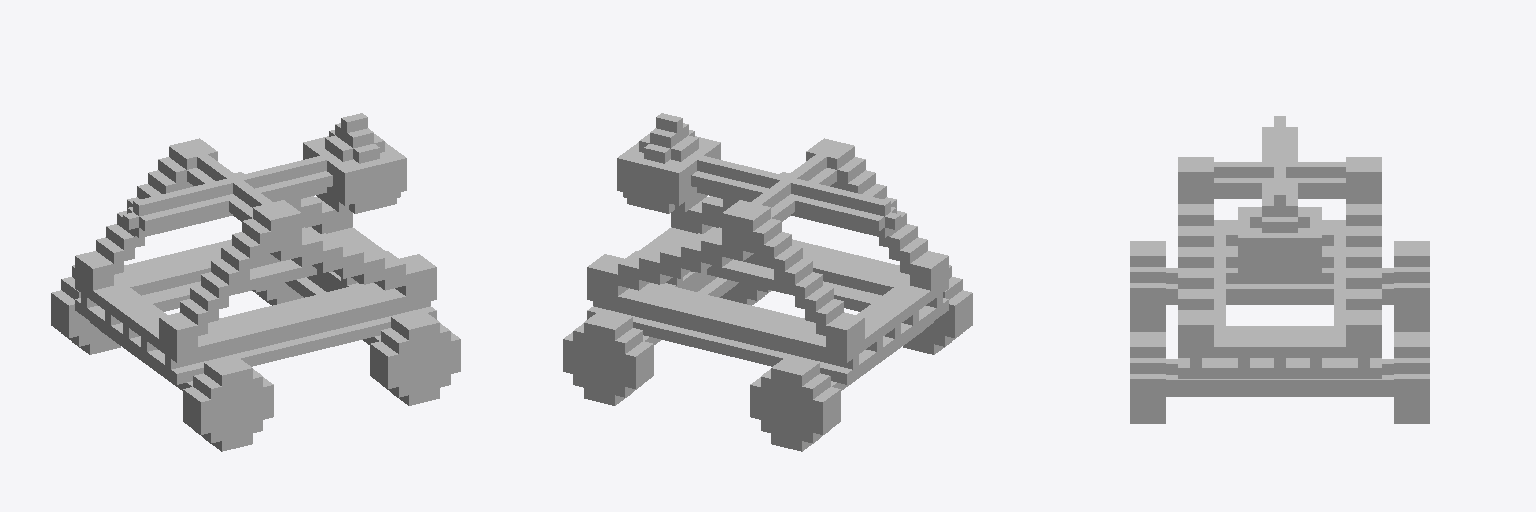
File: catapult.obj
3 renders of one model, left to right at view 1: azimuth 30°, elevation 25°; view 2: azimuth 150°, elevation 25°; view 3: azimuth 270°, elevation 25°, orthographic.
Parts seen in each view (by area): view 1: object 1; view 2: object 1; view 3: object 1.
Boxes of the visible parts, x1,y1,x2,y2 form: object 1: [51, 113, 460, 451]; object 1: [563, 113, 972, 451]; object 1: [1130, 116, 1429, 423].
Bounding box in the file's own units: 2.5 × 2.1 × 2.5.